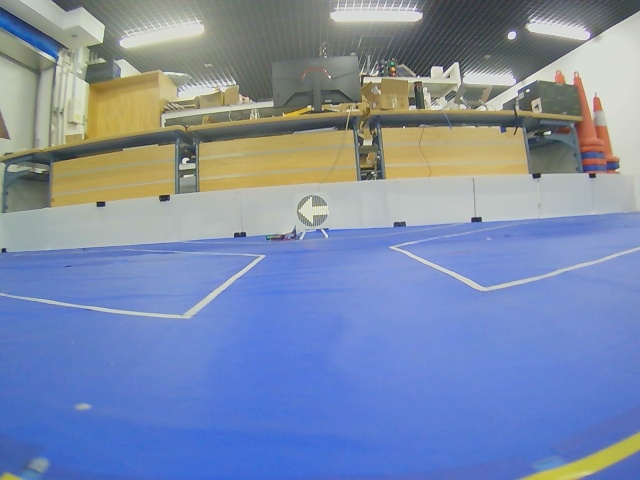left_yellow: (297, 194, 329, 229)
